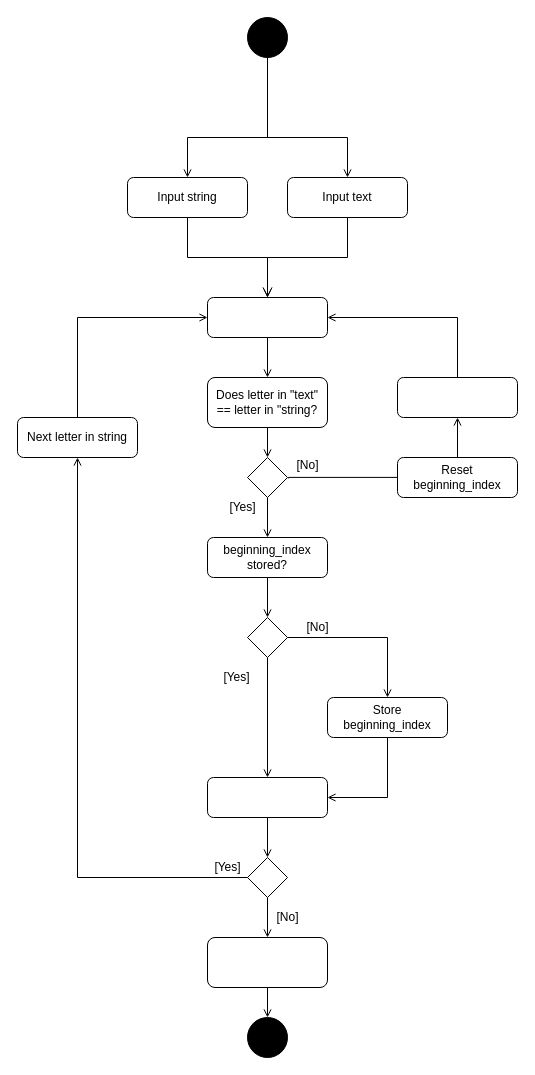
The diagram is 535 pixels wide and 1075 high, and some of its shapes have lost their labels. Each missing label, with the centre of its shape:
"Go back to first letter in string" goes at point 457,397.
"More letters in string?" goes at point 267,797.
"Next letter in text" goes at point 267,317.
"Print beginning_index of string" goes at point 267,962.
